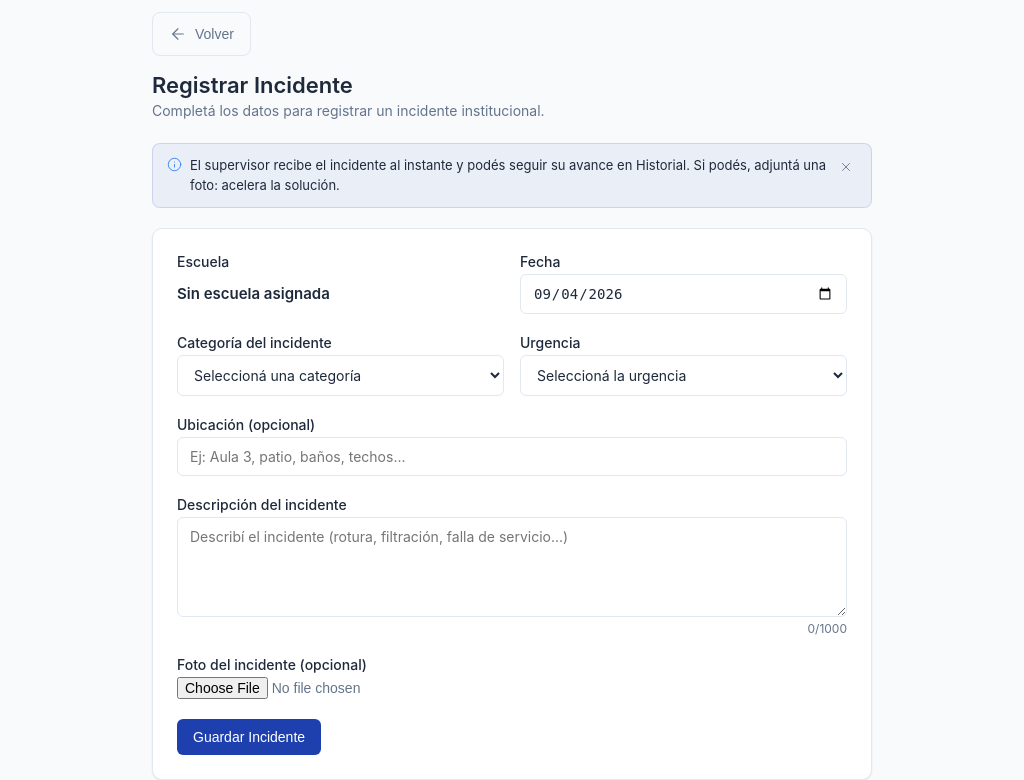
Test: Incidentes › avisa si el perfil no tiene escuela asignada en vez de guardar en silencio
This screenshot has width=1024, height=780.
Select "Rotura edilicia" in the dropdown labelled "Categoría del incidente" at coordinates (340, 376), box [177,355,504,396]
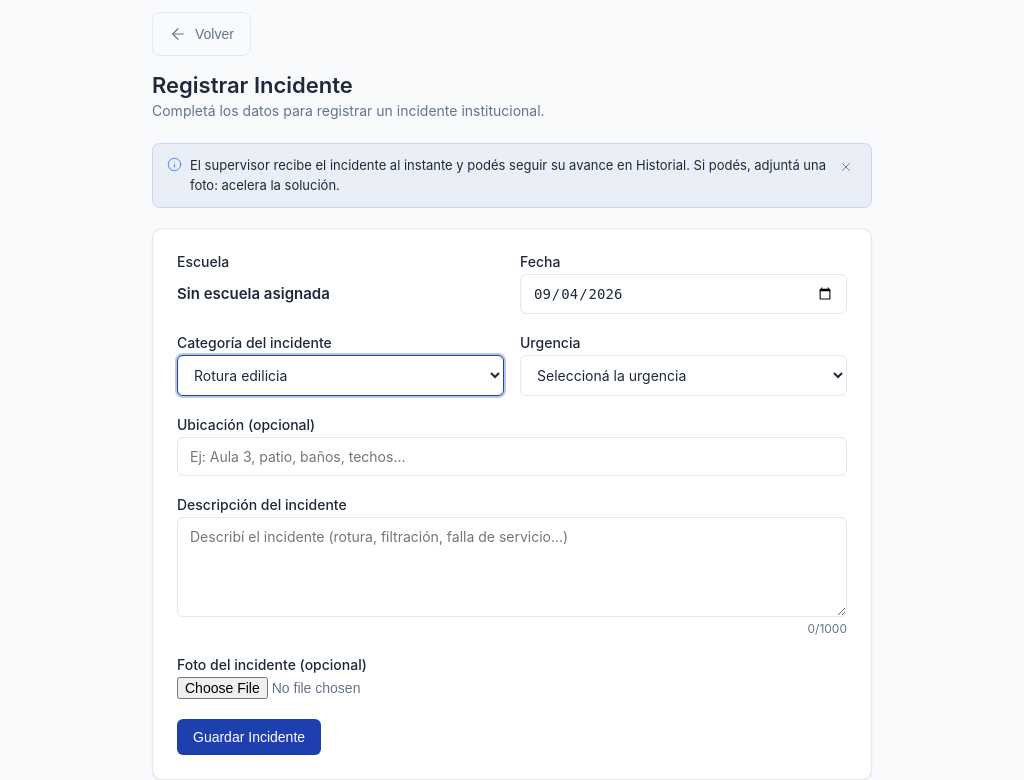
Select "Alta" in the dropdown labelled "Urgencia" at coordinates (684, 376), box [520,355,847,396]
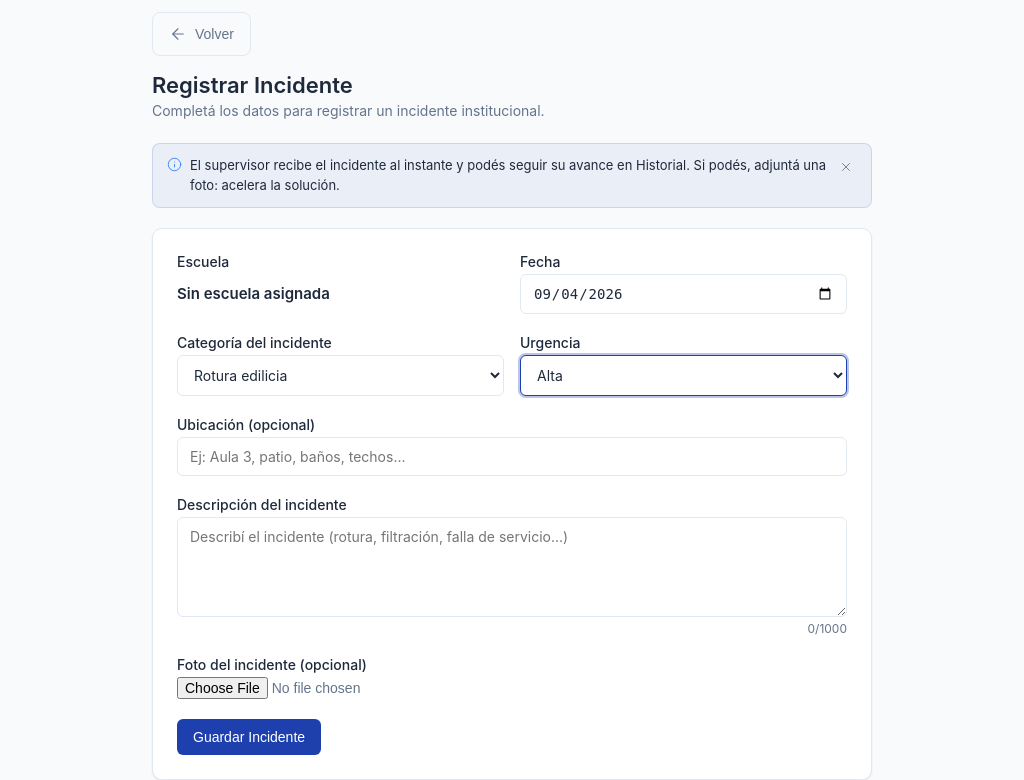
Type "Incidente sin escuela" into the text box with placeholder "Describí el incidente" at coordinates (512, 567), box [177,517,847,617]
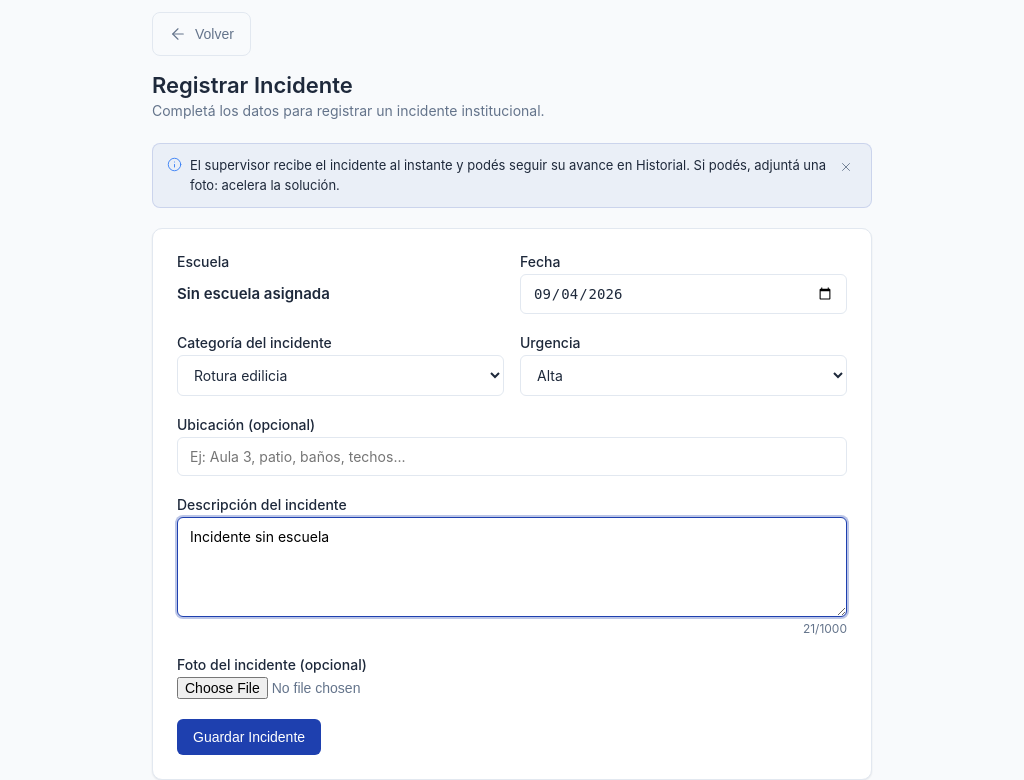
Click the button "Guardar Incidente" at coordinates (249, 737), box [177,719,321,755]
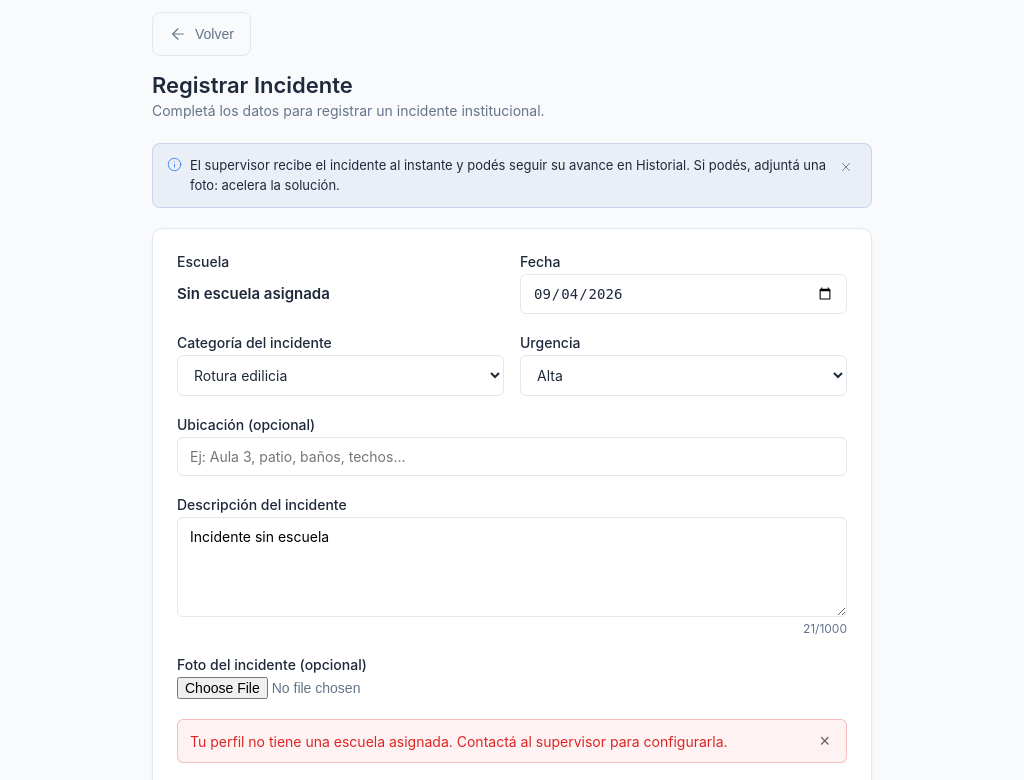
Check: the text "Tu perfil no tiene una escuela asignada" is shown, box [190,732,728,750]
